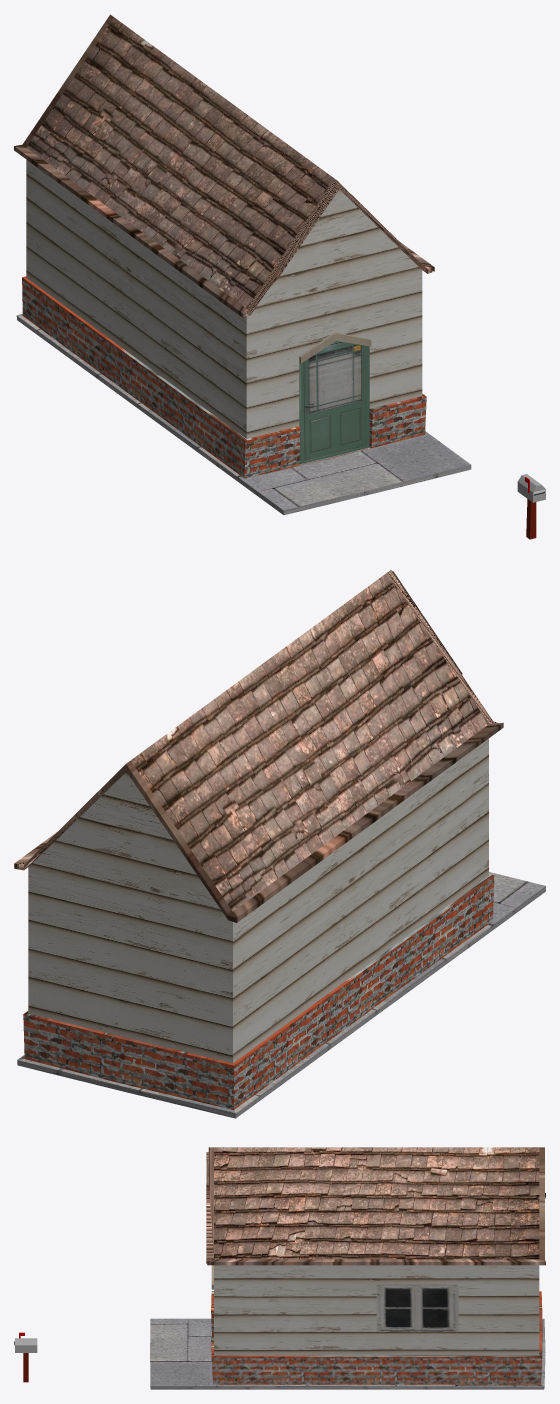
The model's file is house_broken.obj.
3 renders of one model, top to bottom at view 1: azimuth 30°, elevation 25°; view 2: azimuth 150°, elevation 25°; view 3: azimuth 270°, elevation 25°, orthographic. The views are drawn at different scales.
Visible parts, largest first — view 1: 0_House, 1_Mailbox; view 2: 0_House; view 3: 0_House, 1_Mailbox.
Boxes of the visible parts, x1,y1,x2,y2 form: 0_House: (14,14,471,515); 1_Mailbox: (517,474,545,539); 0_House: (14,570,545,1118); 0_House: (150,1147,545,1389); 1_Mailbox: (14,1332,37,1382).
Bounding box in the file's own units: 19.26 × 27.18 × 62.76.
